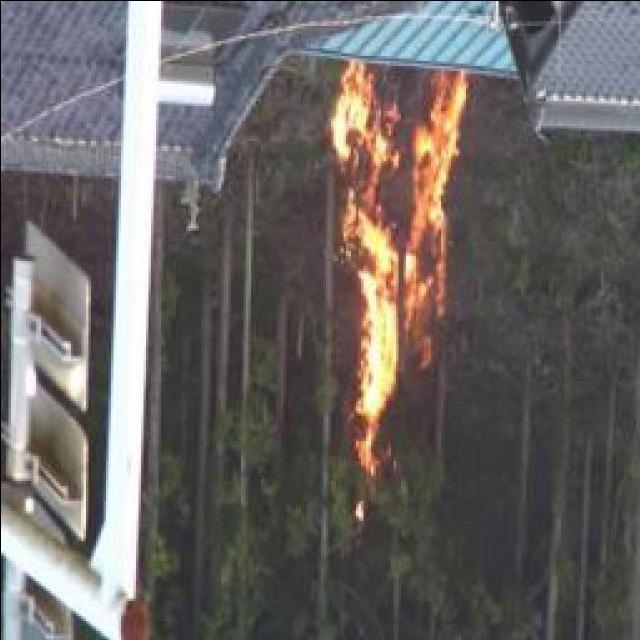Fire: (324, 66, 468, 458)
